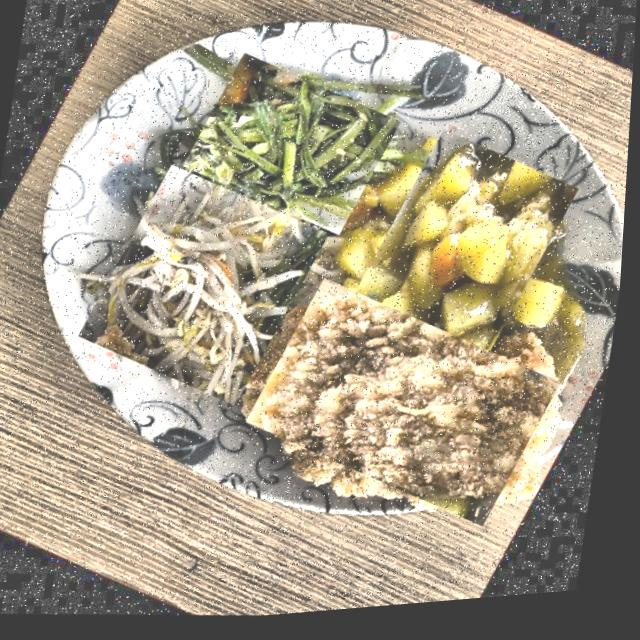Food: (235, 260, 581, 556), (70, 150, 341, 426), (344, 124, 593, 377), (173, 40, 412, 255)
